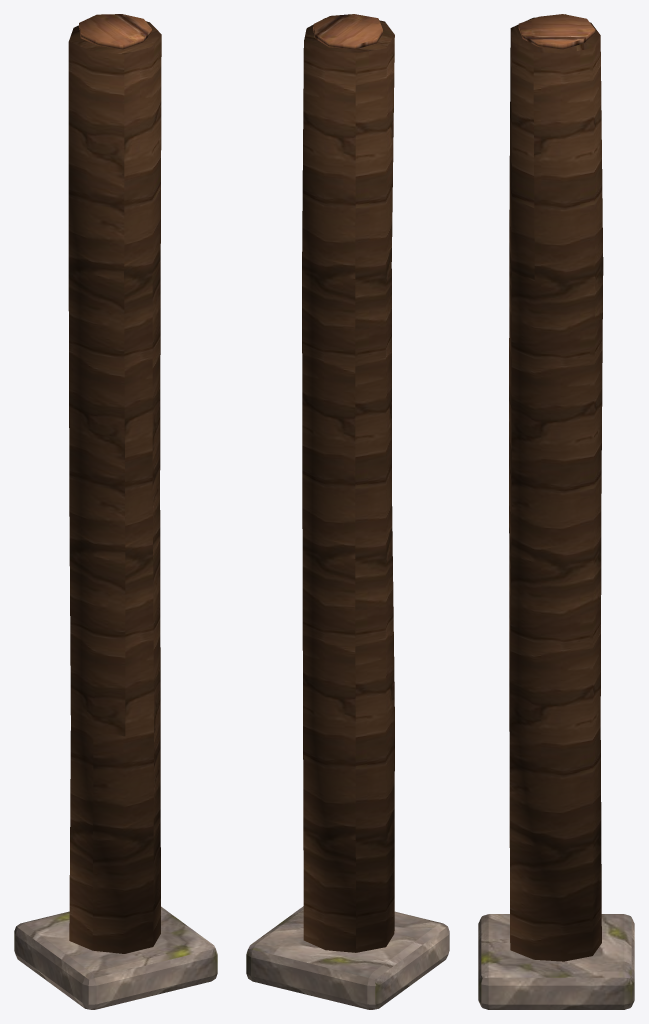
Rendered from pole_2m.glb.
3 views of the same model, side by side, from view 1: azimuth 30°, elevation 25°; view 2: azimuth 150°, elevation 25°; view 3: azimuth 270°, elevation 25° (orthographic).
Parts seen in each view (by area): view 1: model; view 2: model; view 3: model.
Part boxes in pixels (x1=…): model: x1=14, y1=14, x2=217, y2=1009; model: x1=246, y1=14, x2=449, y2=1009; model: x1=478, y1=14, x2=634, y2=1009.
Bounding box in the file's own units: 0.3 × 2.01 × 0.3.
Materials: 3 (3 with a texture image).
